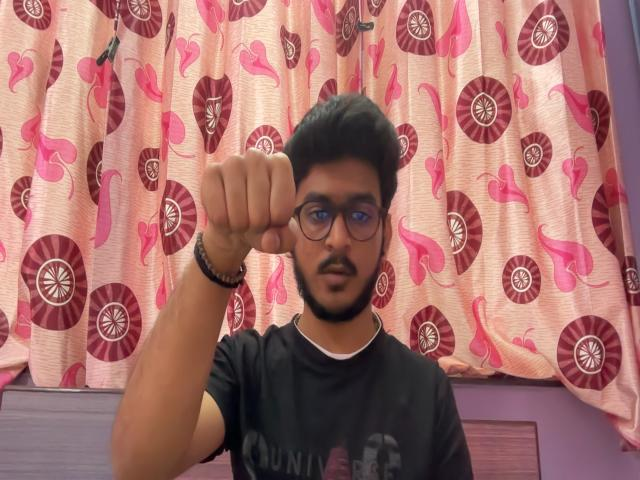Yes: (191, 147, 305, 260)
